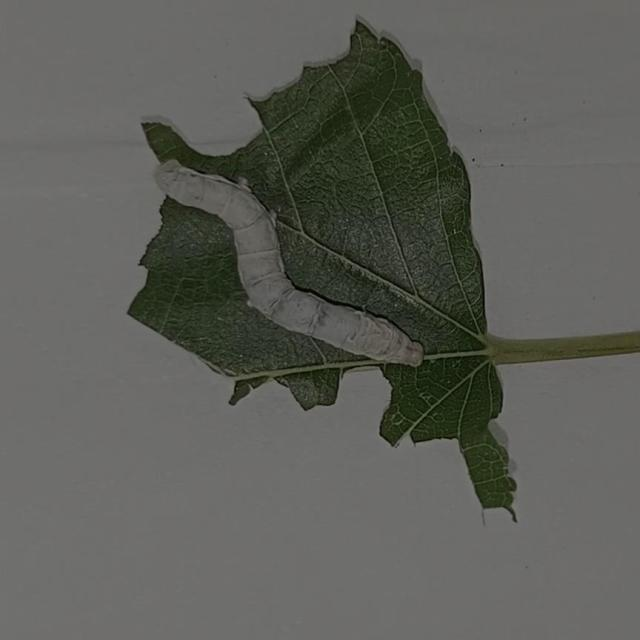Healthy: (135, 141, 437, 387)
